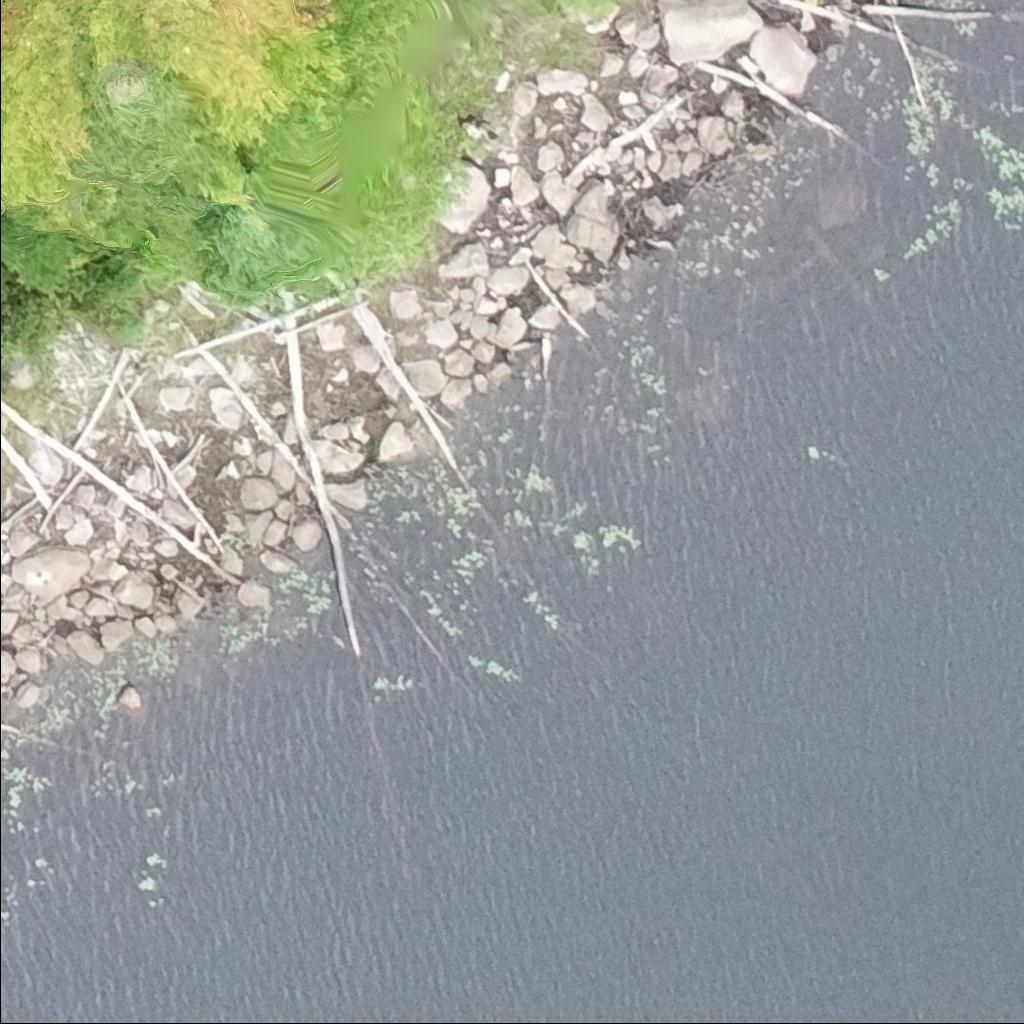crown: (72, 0, 345, 210), (76, 58, 221, 200), (0, 0, 94, 209), (201, 202, 322, 290)
